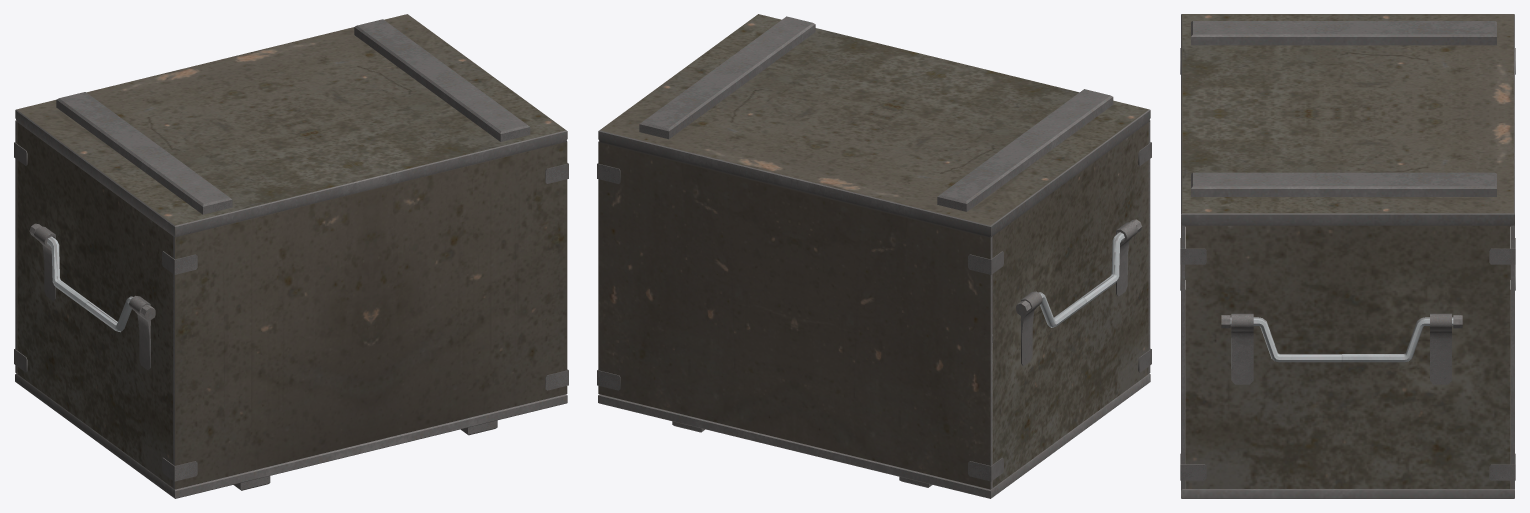
File: metal_crate_2.fbx
3 views of the same model, side by side, from view 1: azimuth 30°, elevation 25°; view 2: azimuth 150°, elevation 25°; view 3: azimuth 270°, elevation 25° (orthographic). The views are drawn at different scales.
Parts seen in each view (by area): view 1: metal_crate_2; view 2: metal_crate_2; view 3: metal_crate_2.
Boxes of the visible parts, x1,y1,x2,y2 form: metal_crate_2: (14, 14, 568, 498); metal_crate_2: (597, 14, 1151, 498); metal_crate_2: (1180, 14, 1515, 498).
Size of what is drawn, in the model's own units: 82.75 by 55.34 by 54.85.
Materials: 1 (1 with a texture image).
